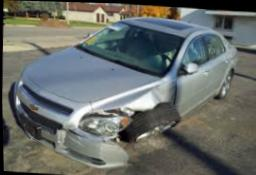Bumper: (11, 85, 132, 171)
Fender: (91, 76, 176, 112)
Light: (78, 110, 131, 135)
